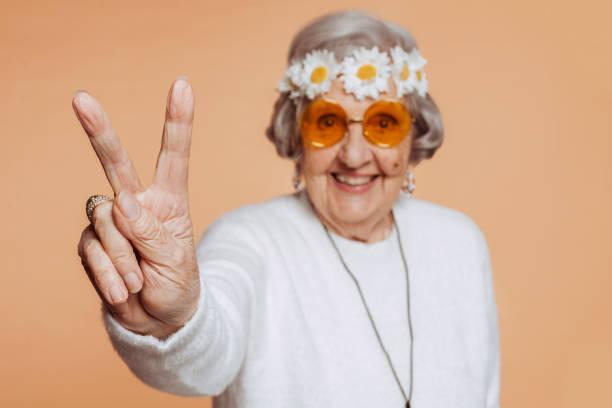peace_sign: (62, 72, 223, 354)
